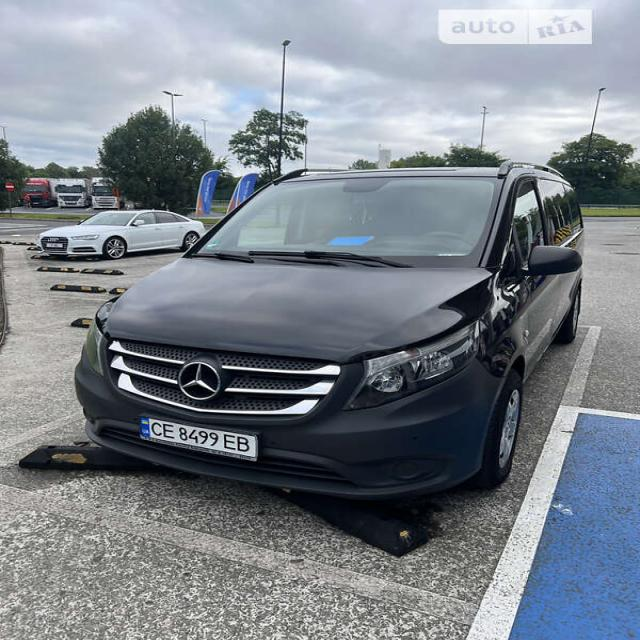plate: (121, 402, 269, 466)
